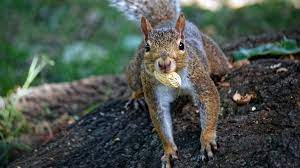squirrel: (134, 10, 225, 155)
